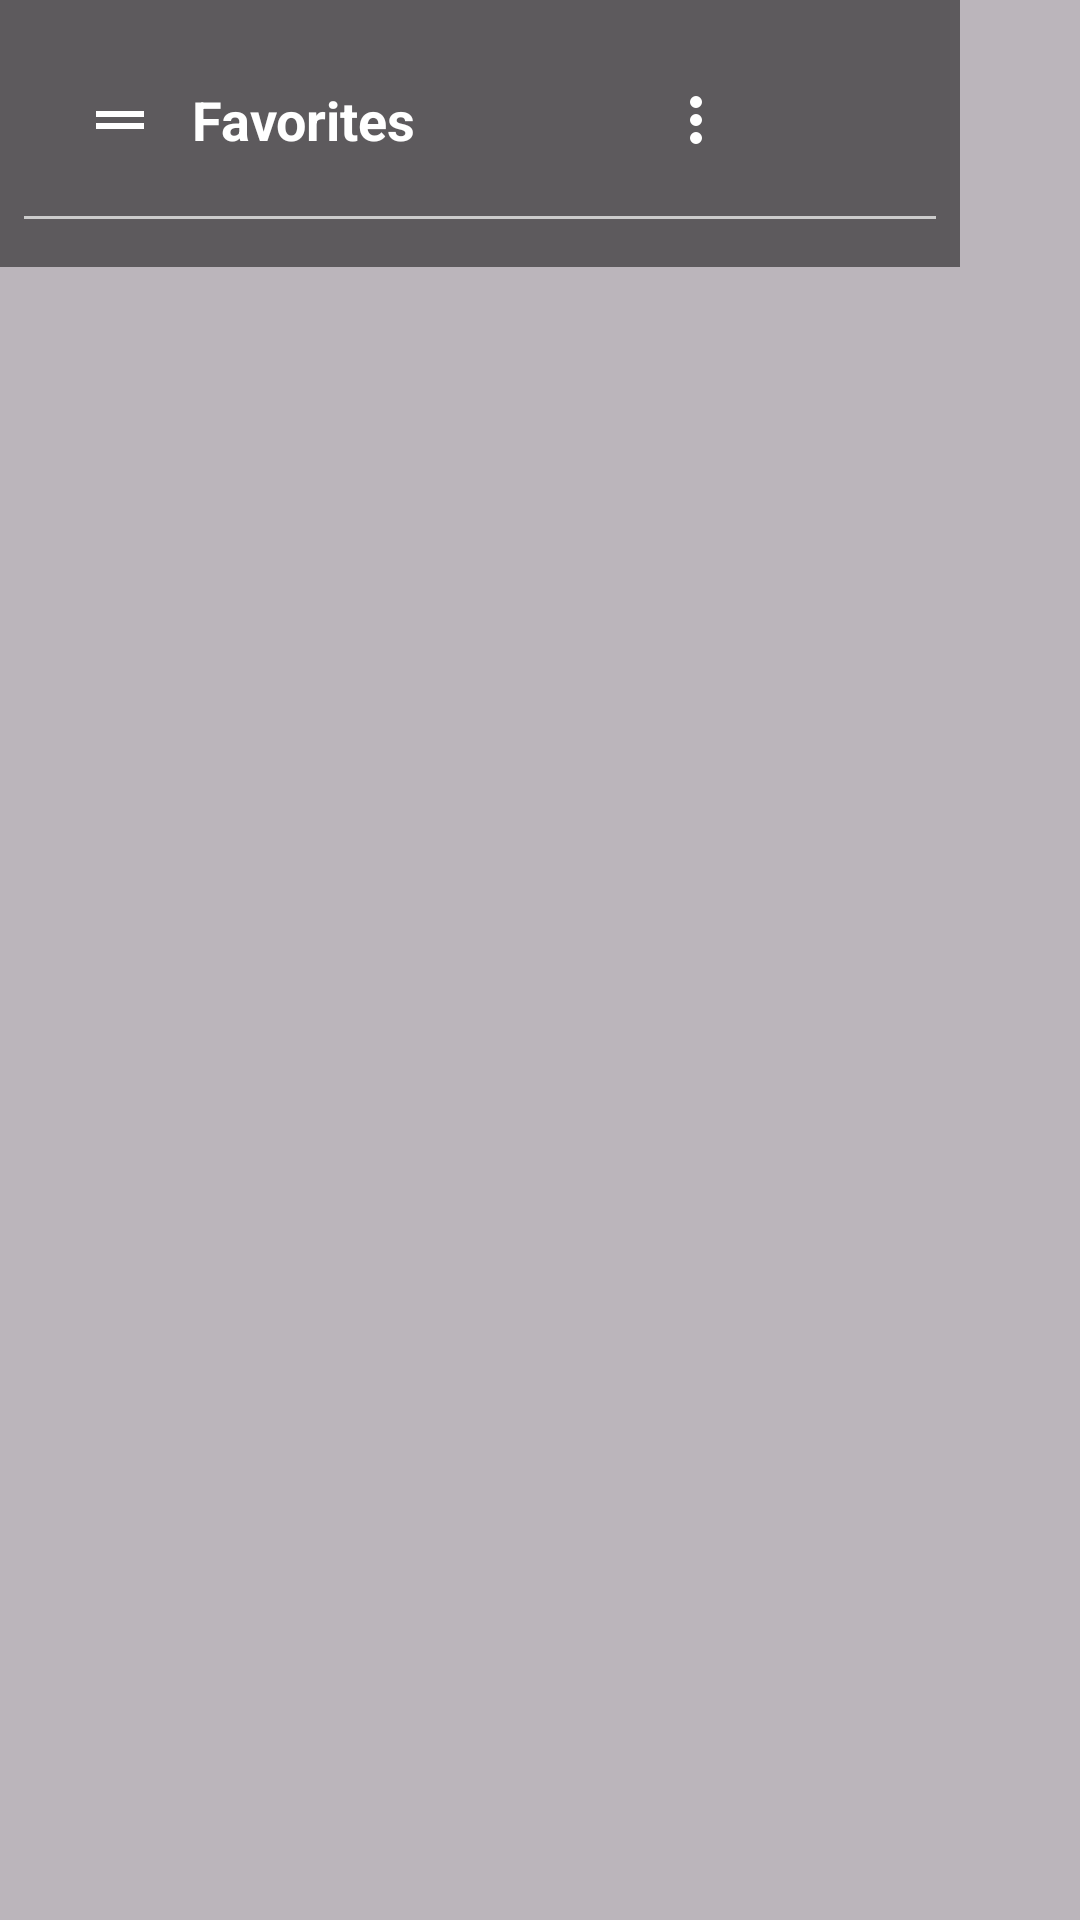

Point at icon controls on the screen. Image size 1080 × 1920, points as point (x, y).
More options: point (696, 120)
